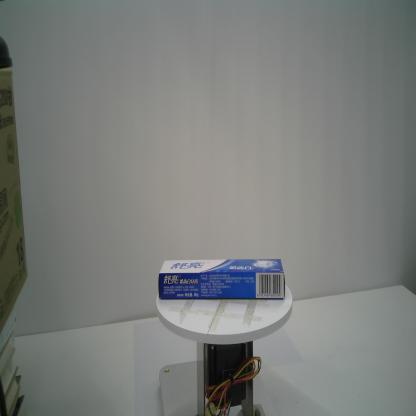Personal Hygiene: (158, 259, 286, 300)
